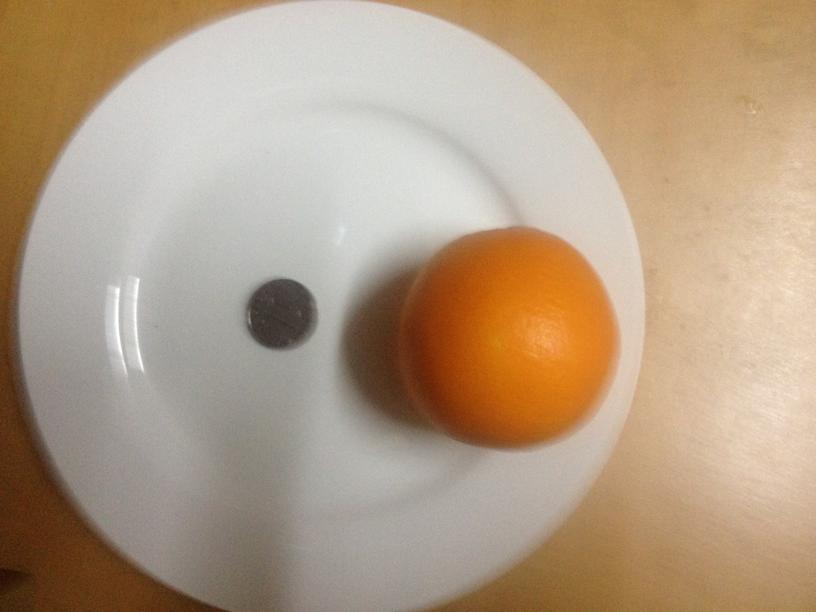coin: (245, 276, 316, 349)
orange: (398, 224, 619, 450)
